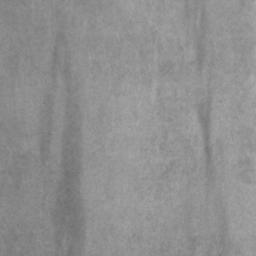Inclusion: (51, 100, 83, 256), (37, 96, 54, 160), (197, 104, 212, 156)
